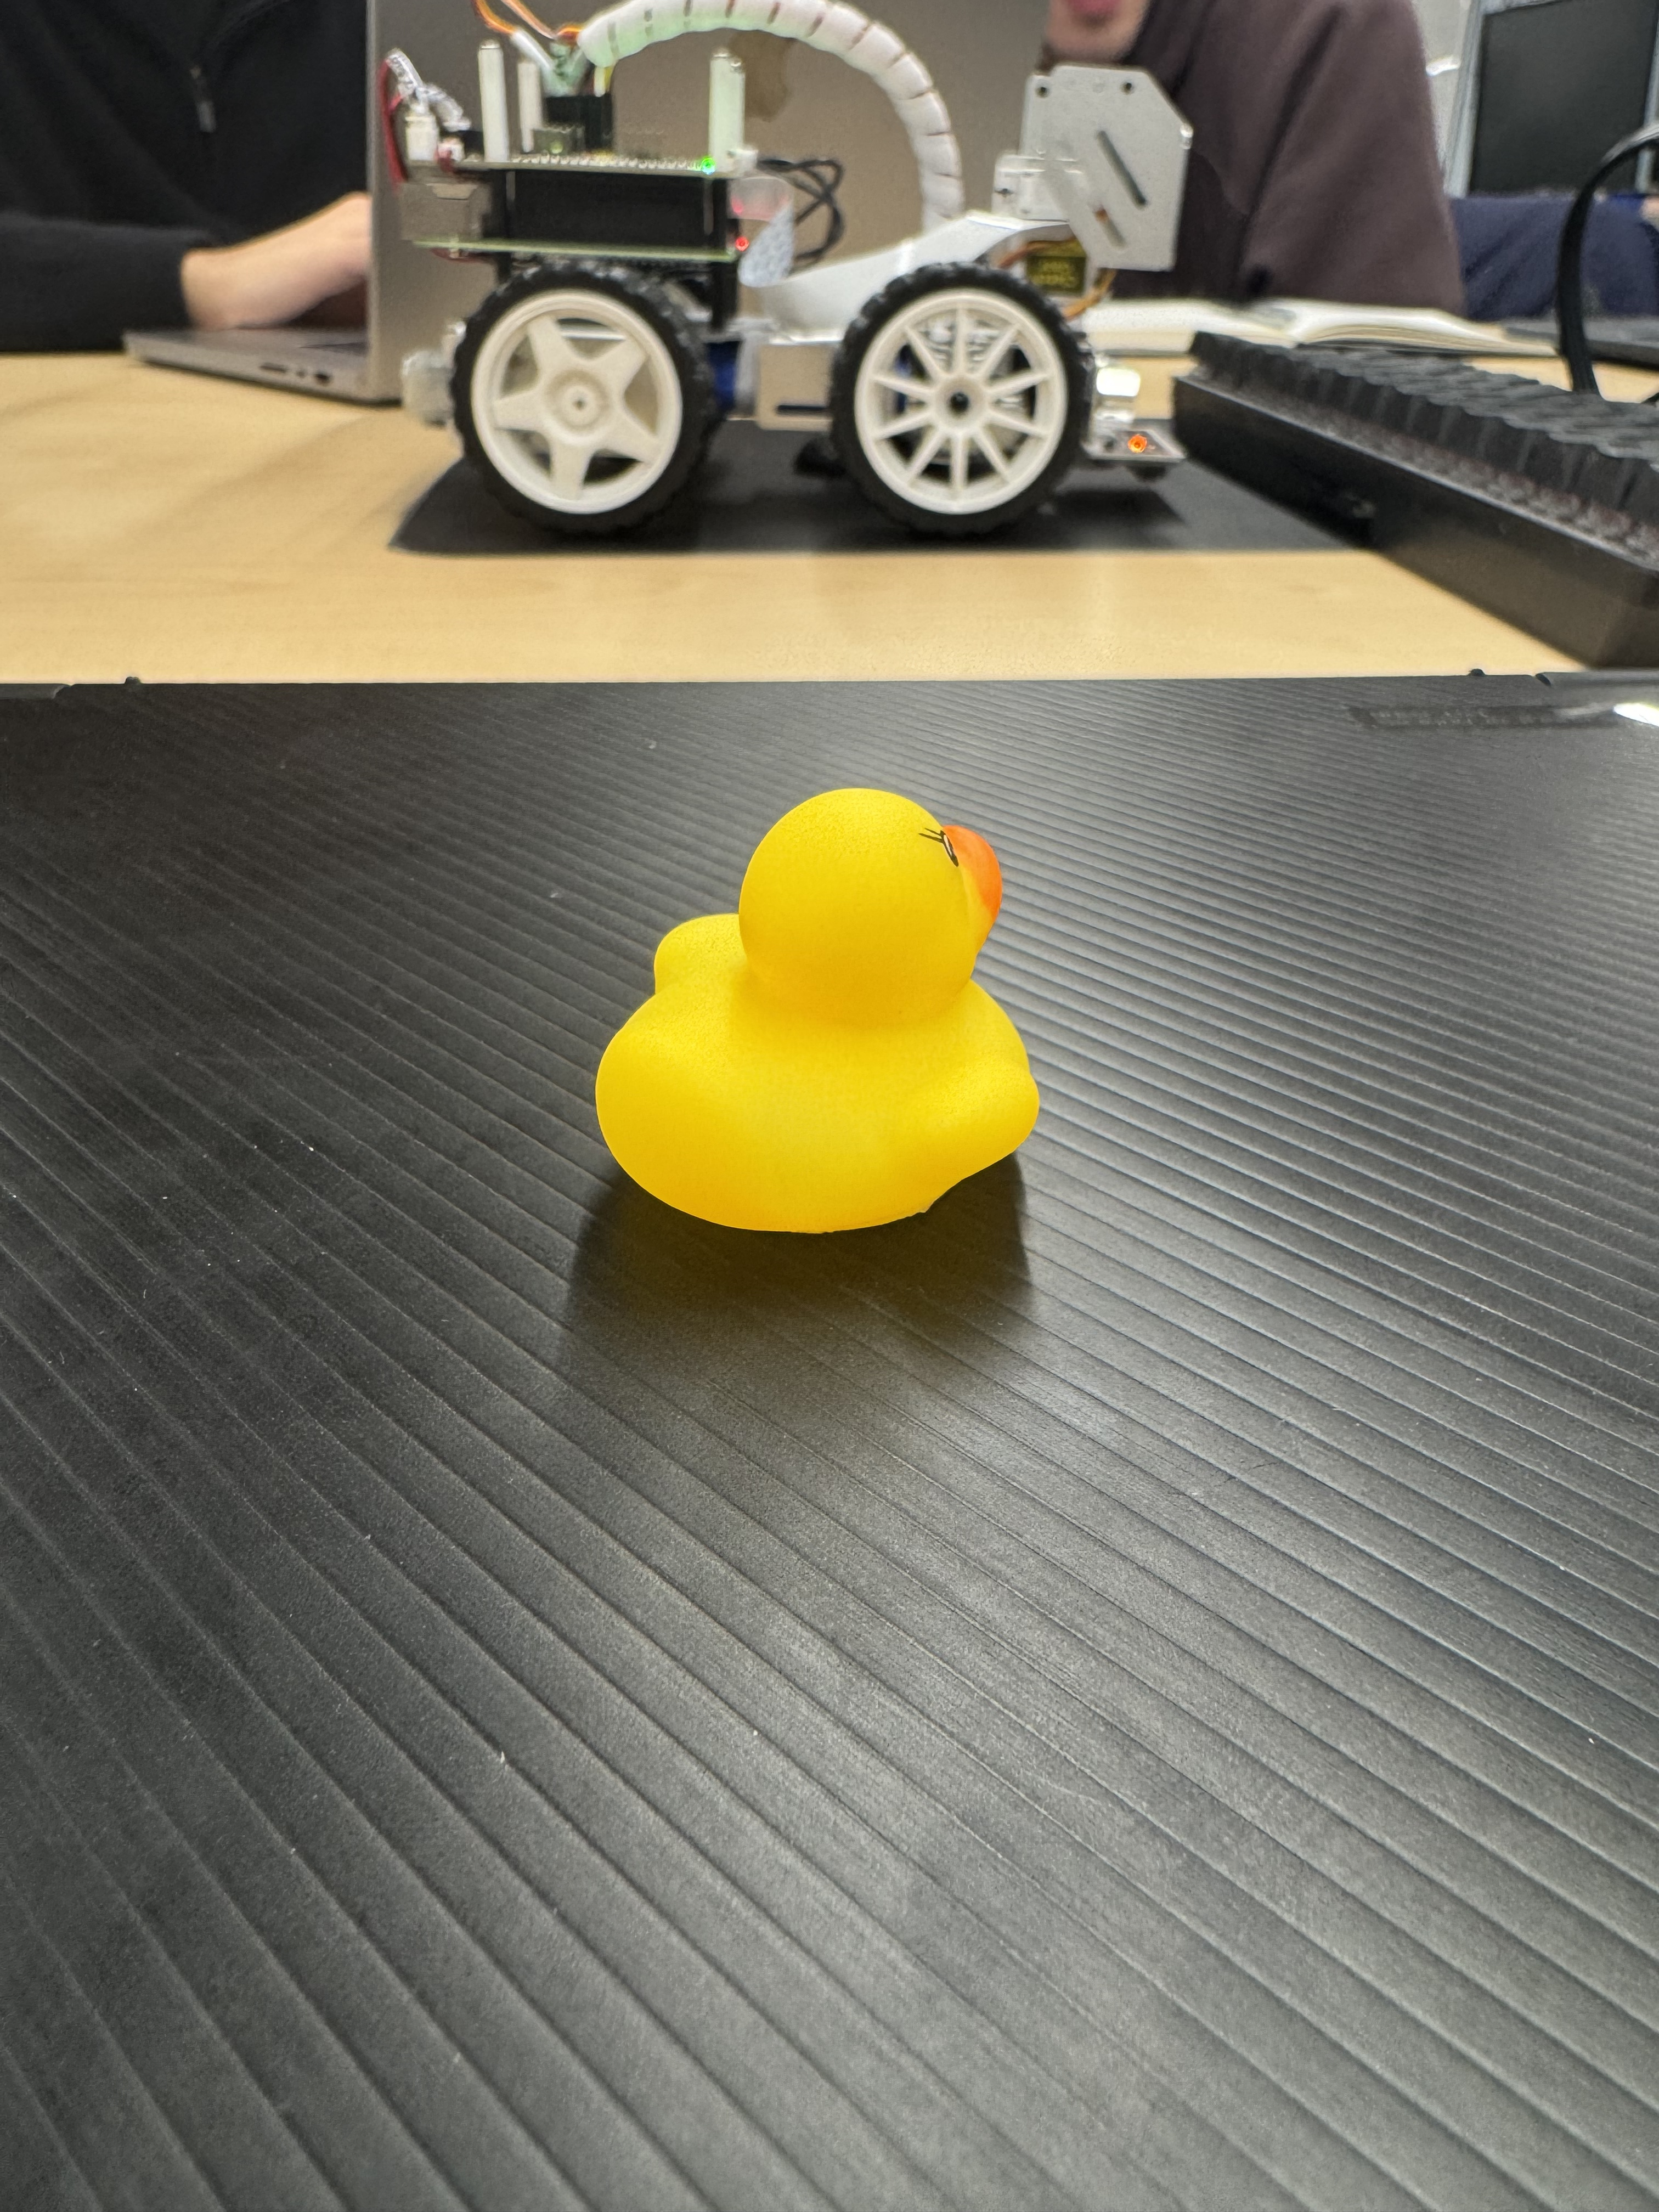duck_regular: (580, 756, 1079, 1244)
